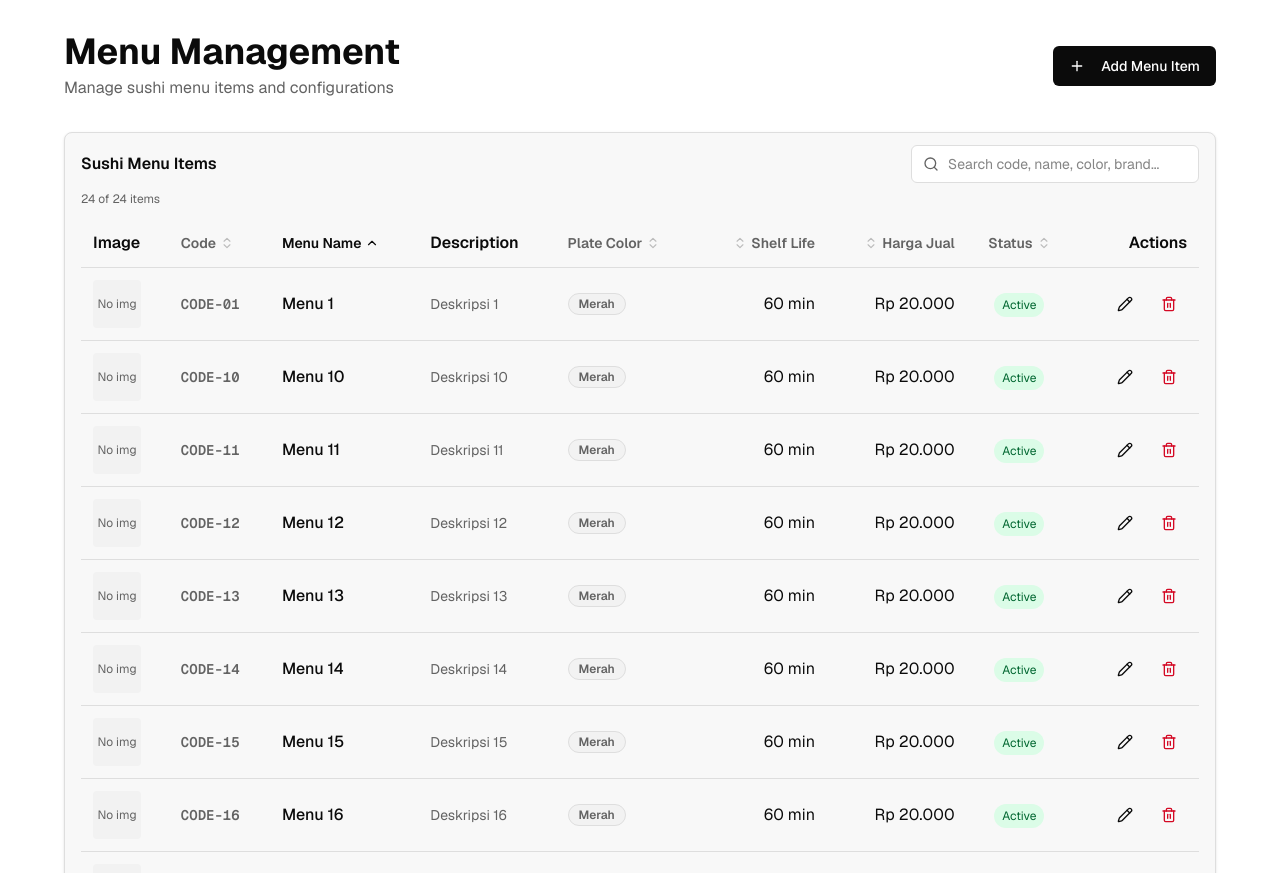
Scenario: MenusAdmin — search › narrows the count as the query narrows
The width and height of the screenshot is (1280, 873).
Step 1. Type "CODE-07" into the field with placeholder "Search code, name, color, brand..." → (1055,164), box [911,145,1199,183]
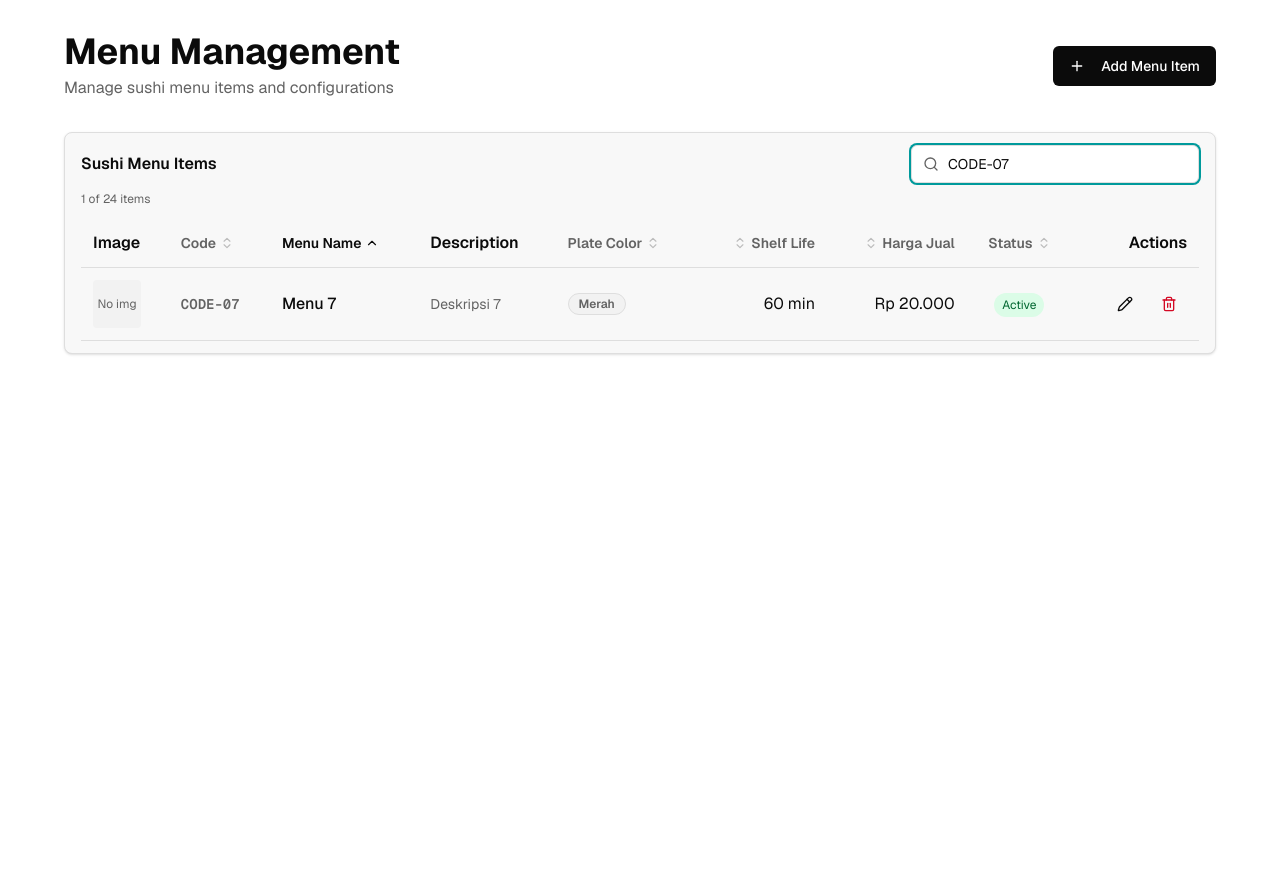
expect the text "1 of 24 items" is shown: met, box [81,191,150,207]
